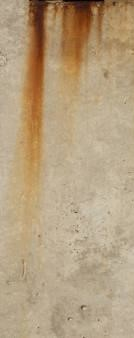Corrosion: (17, 1, 50, 243), (59, 1, 94, 147), (96, 1, 106, 46)
